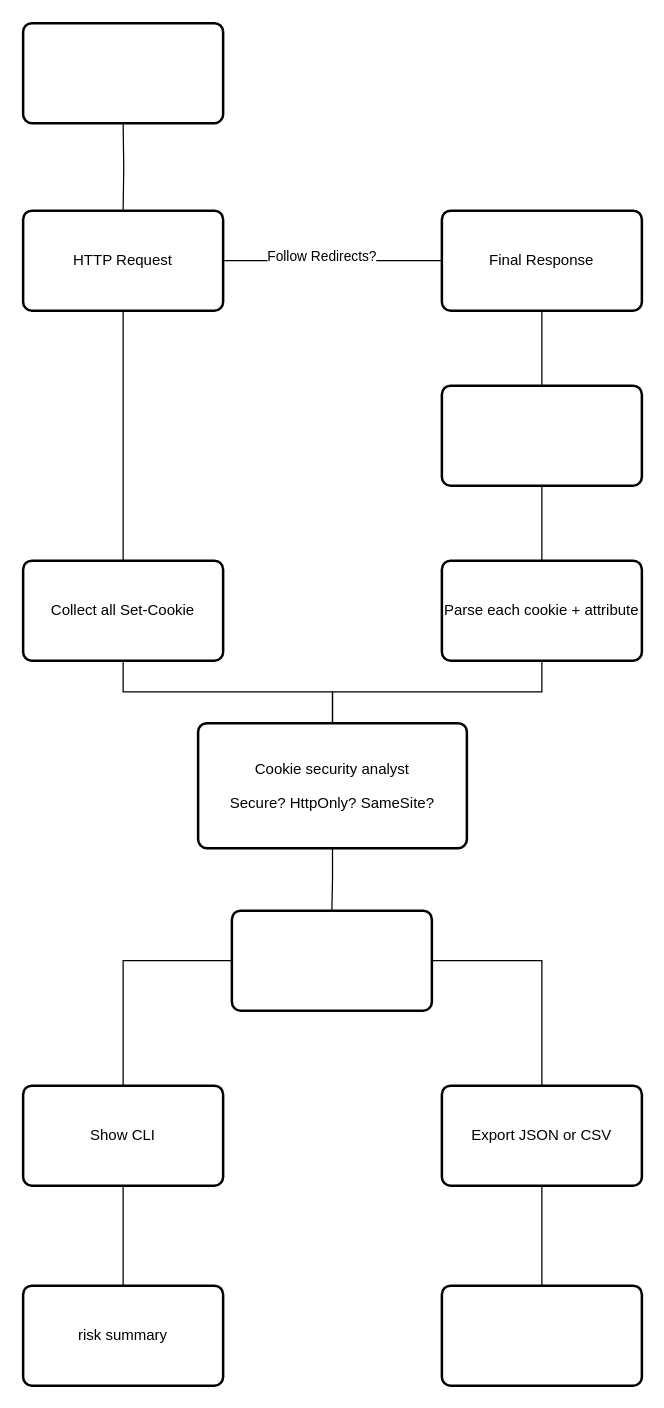
Some shapes in this 664 by 1408 pixel diagram are drawn without their labels. The shapes that lost their labels are listed below. From the top down, each one's centre as x and y in pixels, then its label:
[122,72]: User Input URL
[541,435]: Header: Set-Cookie
[331,960]: Calculate Risk per Cookie
[541,1335]: GUI Web(Opsional)
